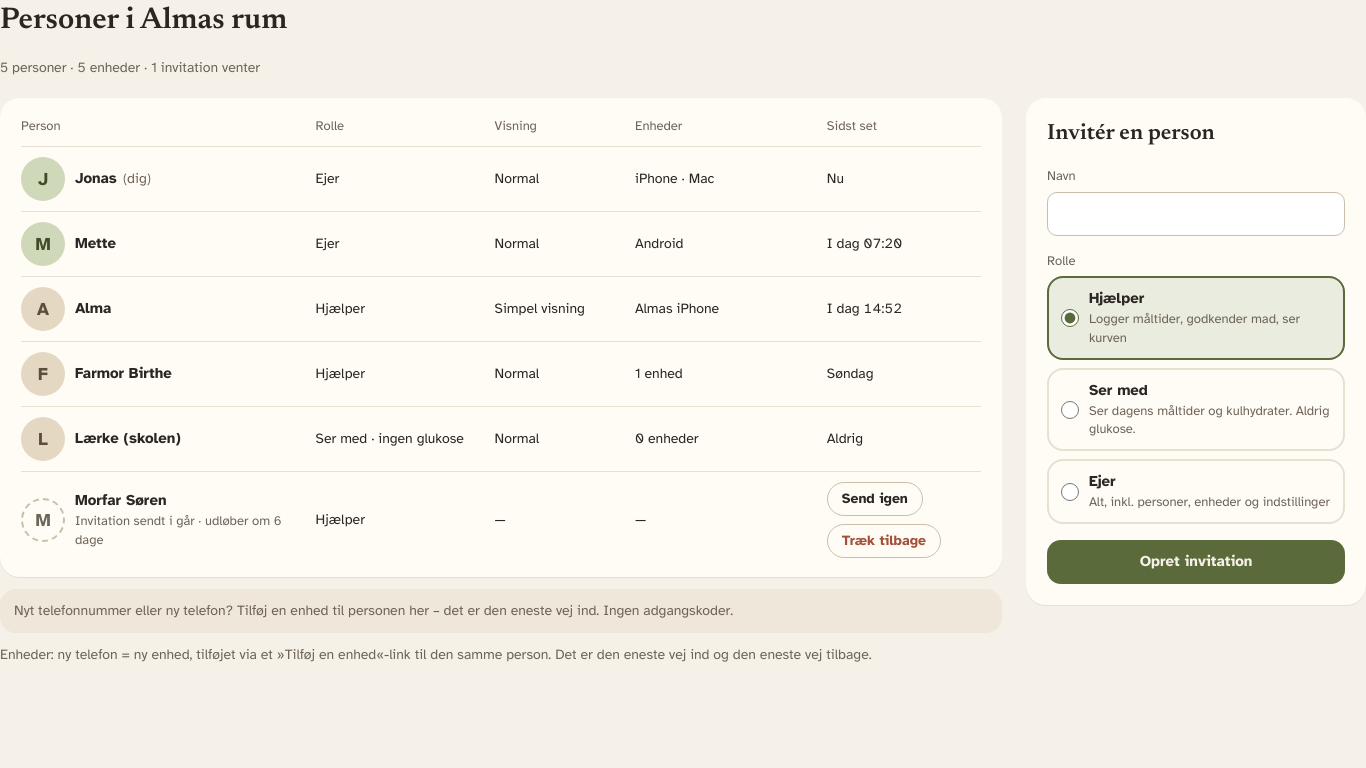
Scenario: PeopleScreen · a member's devices and role (design gap: phone detail) › says why when the device is the last one any owner can sign in with, and keeps the list
The width and height of the screenshot is (1366, 768).
Click the row with test id "member-row" that starts with "Jonas".
click(501, 179)  # box [21, 147, 981, 212]
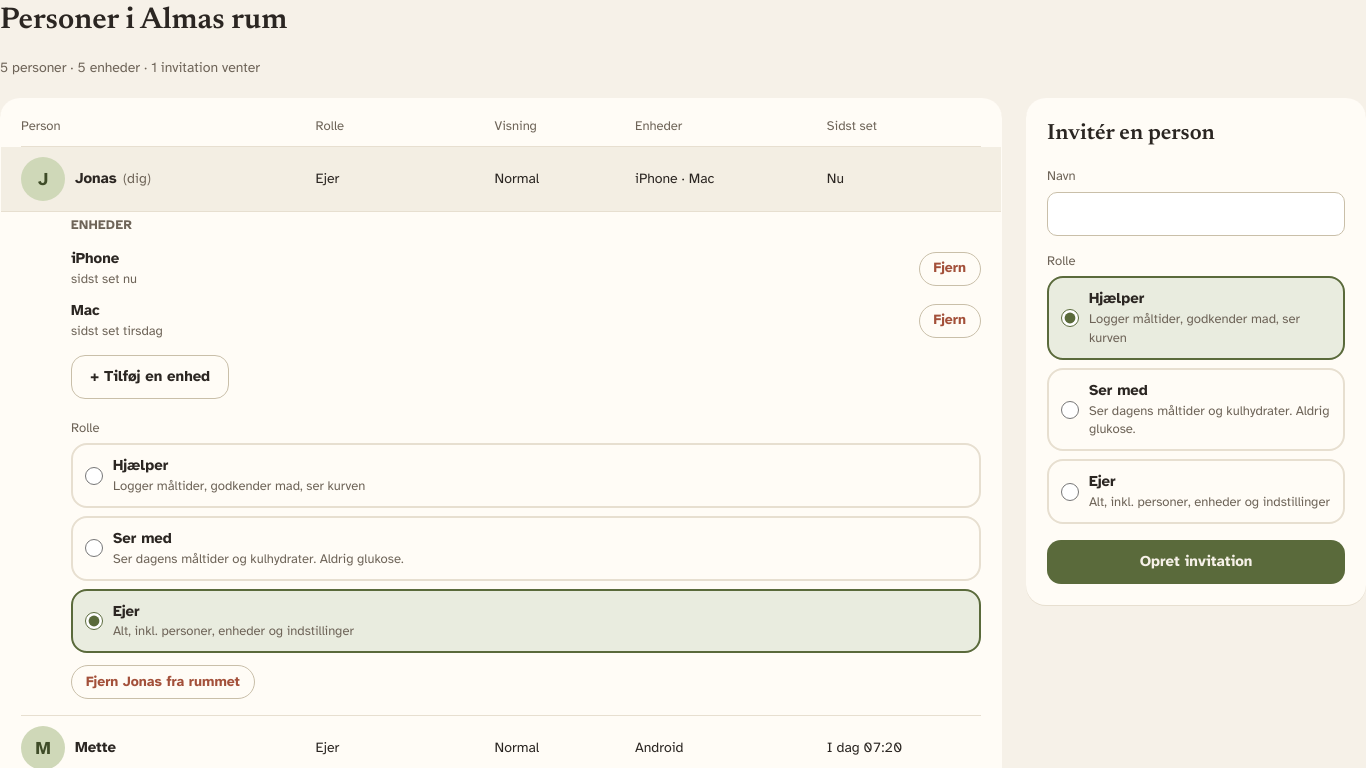
Click the button "Fjern" in the row of "sidst set nu".
click(950, 269)  # box [919, 252, 981, 286]
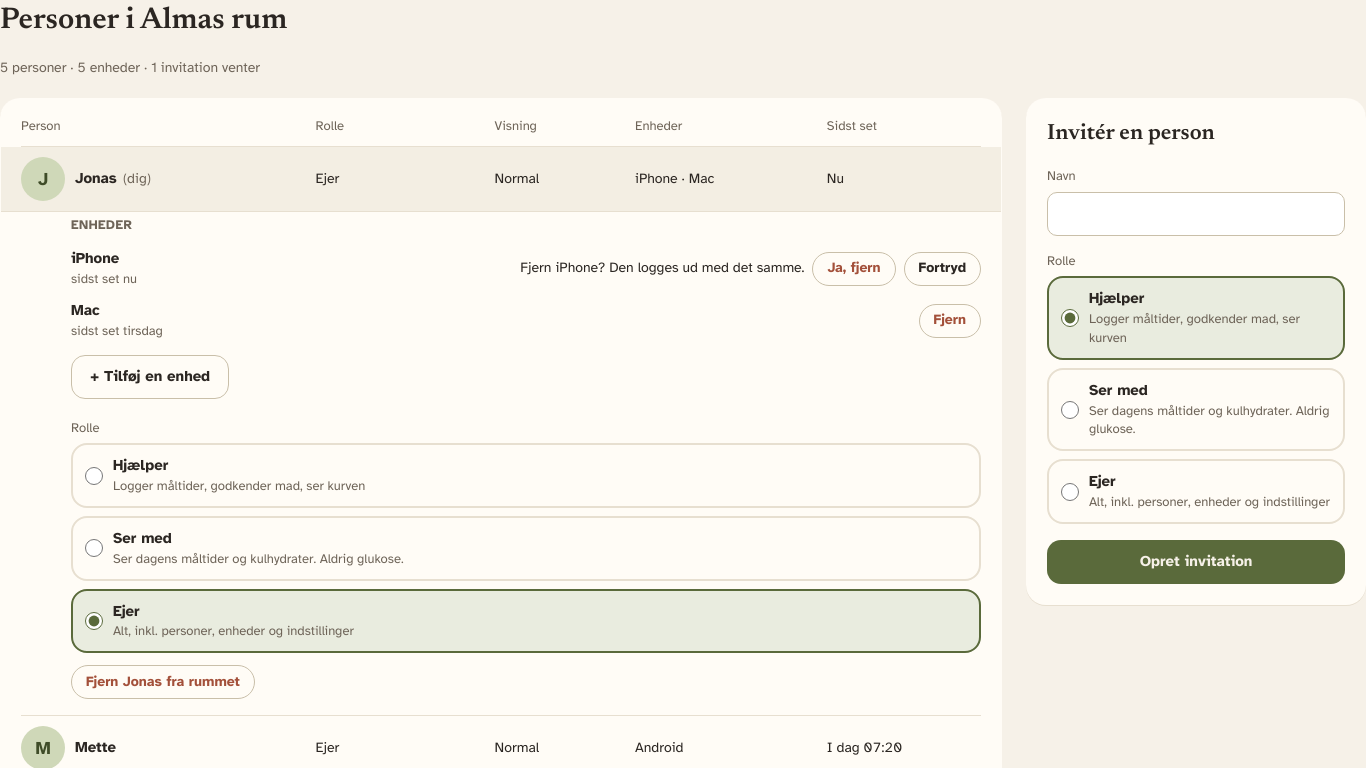
Click the button "Ja, fjern".
click(854, 269)  # box [812, 252, 896, 286]
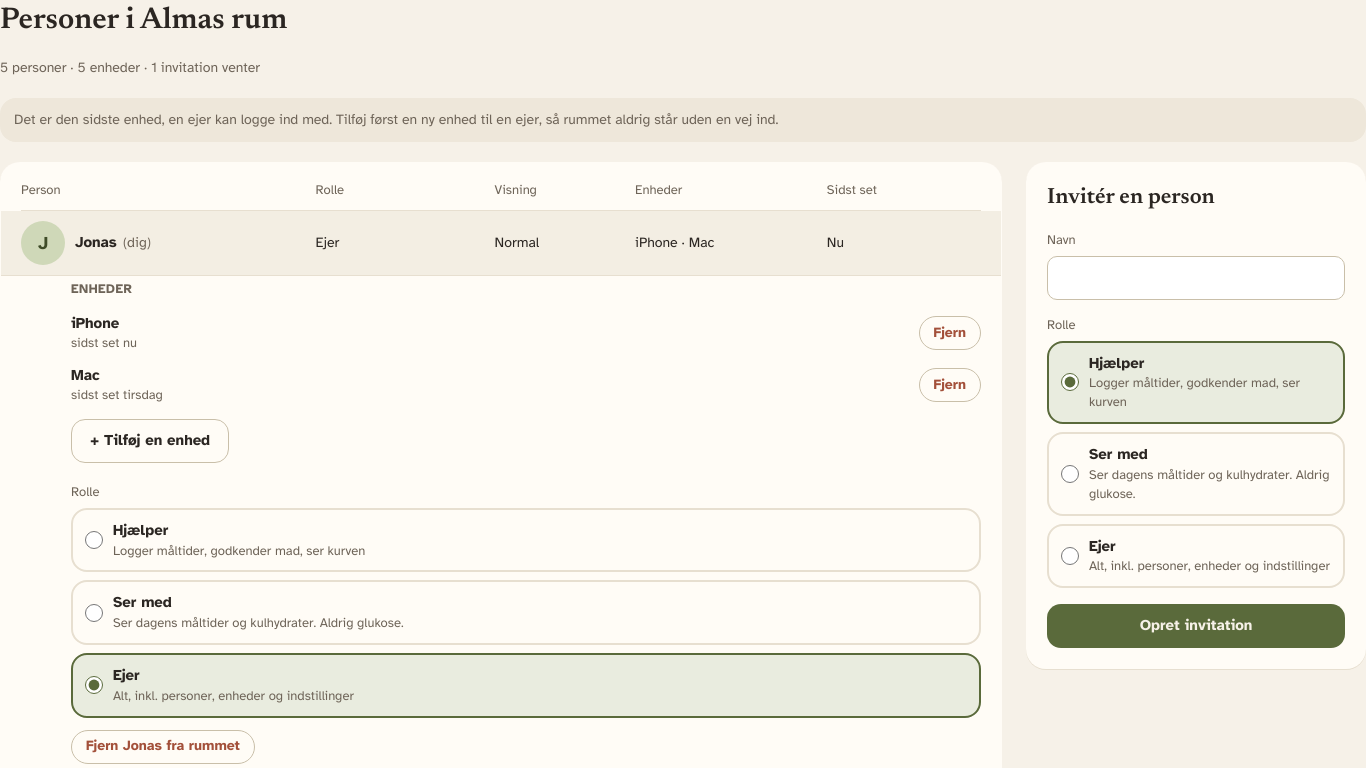
Check: the message shows "Det er den sidste enhed, en ejer kan logge ind med. Tilføj først en ny enhed til en ejer, så rummet aldrig står uden en vej ind.", box [14, 111, 778, 128]
